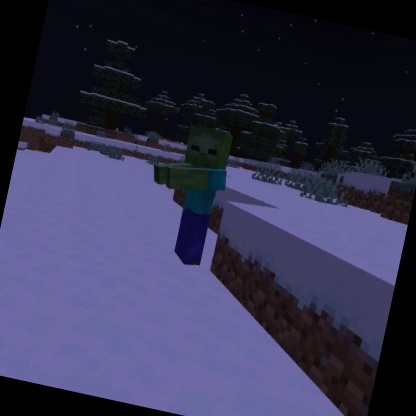zombie: (132, 115, 240, 272)
